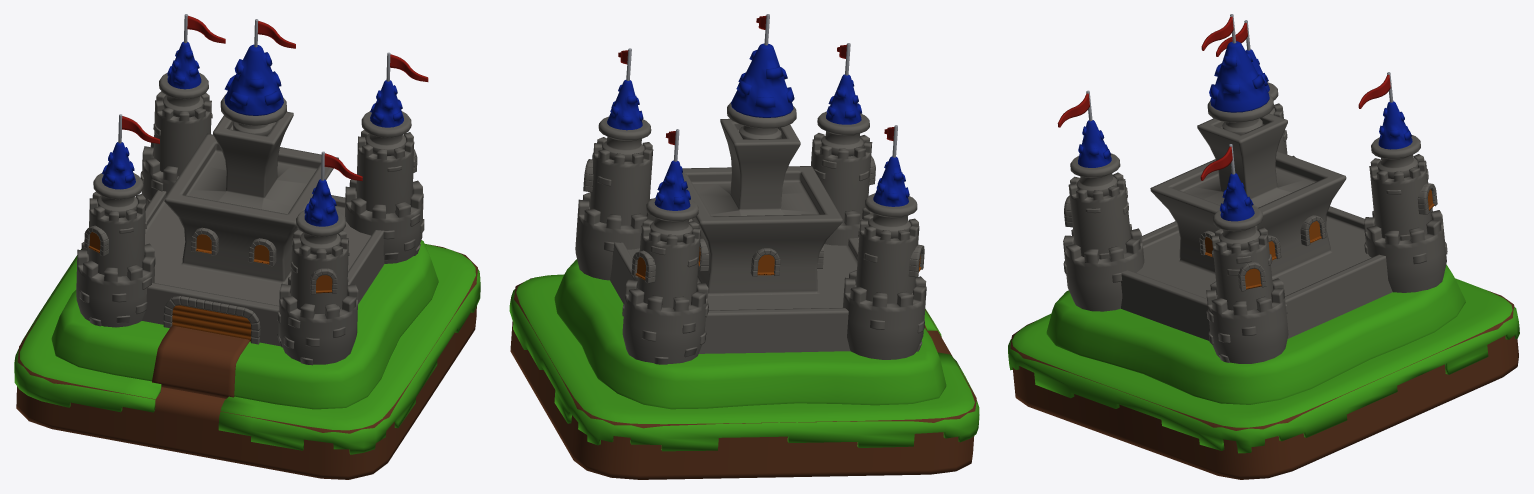
Rendered from castillo_final.glb.
3 views of the same model, side by side, from view 1: azimuth 30°, elevation 25°; view 2: azimuth 150°, elevation 25°; view 3: azimuth 270°, elevation 25° (orthographic). The views are drawn at different scales.
Parts seen in each view (by area): view 1: Castle 7.016, Castle 7.023, Castle 7.039, Castle 7.040, Castle 7.038, Castle 7.041, Castle 7.013, Castle 7, Castle 7.024, Castle 7.033, Castle 7.034, Castle 7.035 (+7 smaller); view 2: Castle 7.016, Castle 7.023, Castle 7.039, Castle 7.040, Castle 7.038, Castle 7.013, Castle 7.033, Castle 7.034, Castle 7.025, Castle 7.036, Castle 7.035, Castle 7.037 (+4 smaller); view 3: Castle 7.023, Castle 7.016, Castle 7.039, Castle 7.040, Castle 7.038, Castle 7.013, Castle 7.035, Castle 7.033, Castle 7.036, Castle 7.037, Castle 7.007, Castle 7.001 (+2 smaller).
Part boxes in pixels (x1,y1,x2,y2): Castle 7.016: (76,91,424,365); Castle 7.023: (142,111,384,346); Castle 7.039: (14,244,480,454); Castle 7.040: (51,240,438,409); Castle 7.038: (16,244,477,479); Castle 7.041: (152,325,249,398); Castle 7.013: (224,44,283,115); Castle 7: (172,305,251,341); Castle 7.024: (163,296,260,344); Castle 7.033: (296,210,345,254); Castle 7.034: (93,173,143,217); Castle 7.035: (159,72,208,117); Castle 7.016: (575,133,926,364); Castle 7.023: (610,118,858,353); Castle 7.039: (509,274,979,451); Castle 7.040: (554,259,946,409); Castle 7.038: (510,278,976,479); Castle 7.013: (731,43,794,117); Castle 7.033: (817,111,869,156); Castle 7.034: (865,193,917,238); Castle 7.025: (583,156,924,283); Castle 7.036: (598,116,651,161); Castle 7.035: (646,198,698,242); Castle 7.037: (727,102,796,139); Castle 7.023: (1120,113,1392,340); Castle 7.016: (1063,103,1447,363); Castle 7.039: (1008,278,1519,453); Castle 7.040: (1046,264,1465,404); Castle 7.038: (1010,290,1518,479); Castle 7.013: (1209,41,1269,112); Castle 7.035: (1371,135,1420,178); Castle 7.033: (1070,153,1120,197); Castle 7.036: (1213,206,1262,250); Castle 7.037: (1207,94,1273,135); Castle 7.007: (1378,101,1412,149); Castle 7.001: (1078,120,1111,167).
Size of the model in its own units: 8.89 by 7.26 by 8.87.
